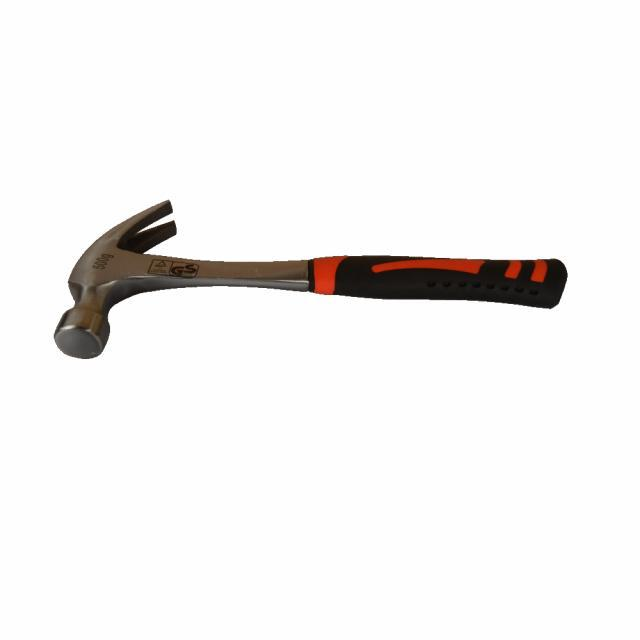hammer: (50, 191, 572, 367)
